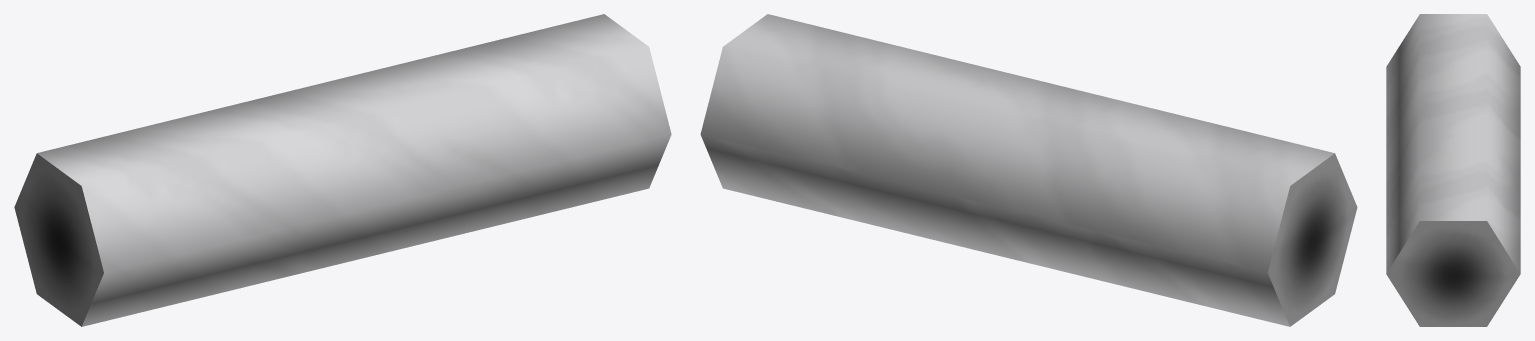
Rendered from MetalPipeSilencerBig.fbx.
3 views of the same model, side by side, from view 1: azimuth 30°, elevation 25°; view 2: azimuth 150°, elevation 25°; view 3: azimuth 270°, elevation 25° (orthographic). The views are drawn at different scales.
Visible parts, largest first — view 1: MetalPipeBig; view 2: MetalPipeBig; view 3: MetalPipeBig.
Boxes of the visible parts, bbox=[...] form: MetalPipeBig: bbox=[14, 14, 671, 326]; MetalPipeBig: bbox=[700, 14, 1357, 326]; MetalPipeBig: bbox=[1386, 14, 1520, 326].
Bounding box in the file's own units: 14.42 × 3.44 × 3.95.
